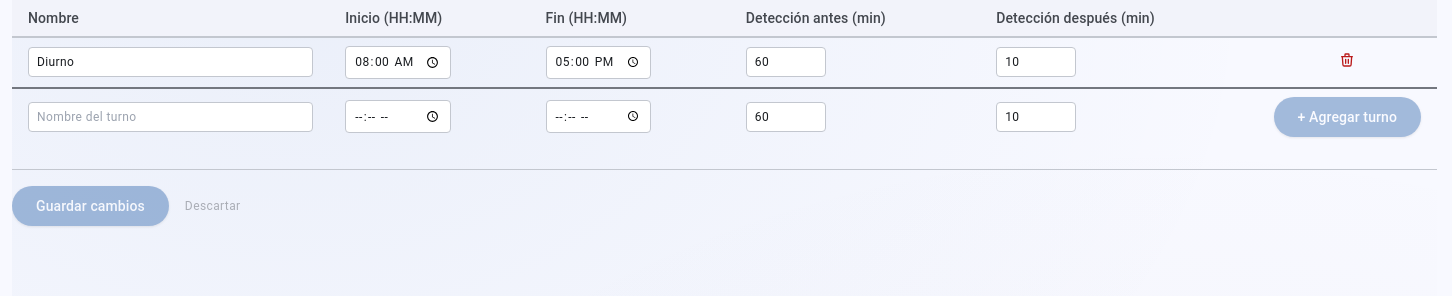
Test case: ShiftsTab save › shows error message when save fails
Replace the text in the field named "Nombre del turno" with "X": (171, 62) [28, 47, 313, 77]
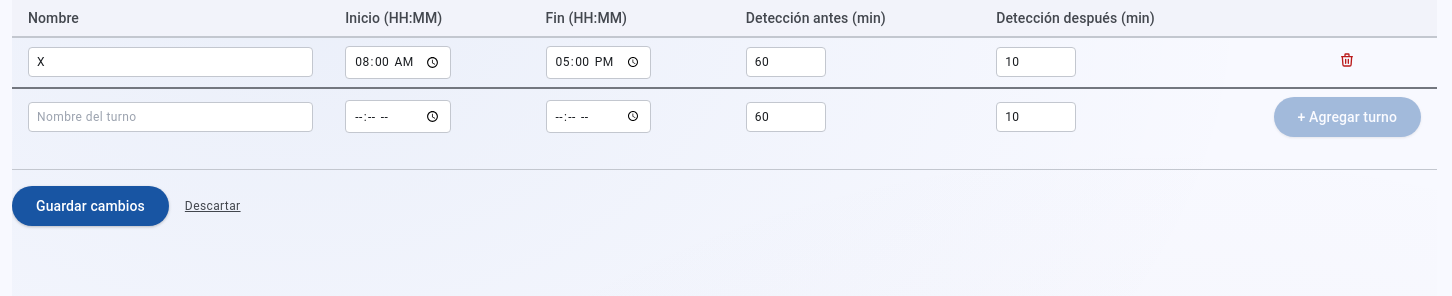
Click the button "Guardar cambios": (90, 206) [12, 186, 169, 226]
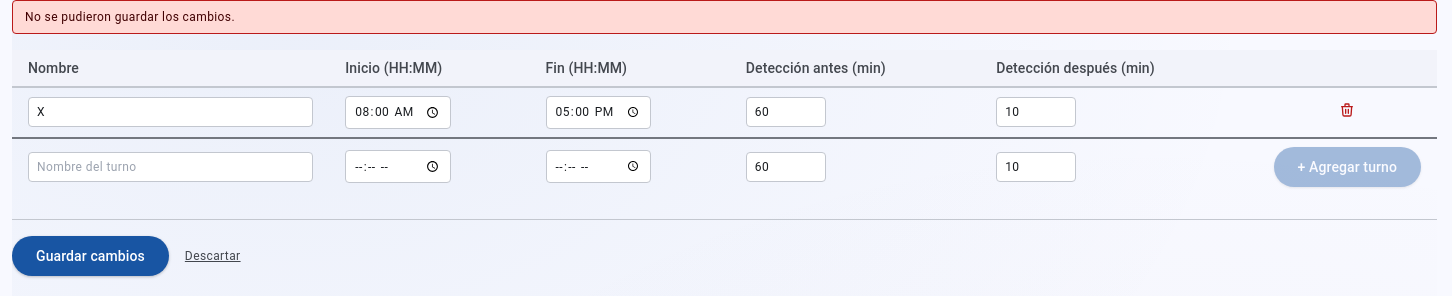
Now the text "No se pudieron guardar los cambios." is shown, box [12, 0, 1437, 34]
